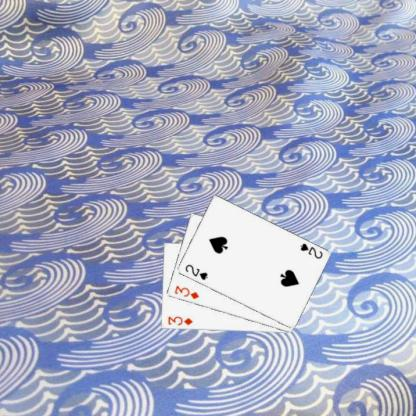2S: (182, 262, 209, 282), (298, 240, 324, 260)
3D: (172, 283, 200, 300), (165, 314, 194, 326)
